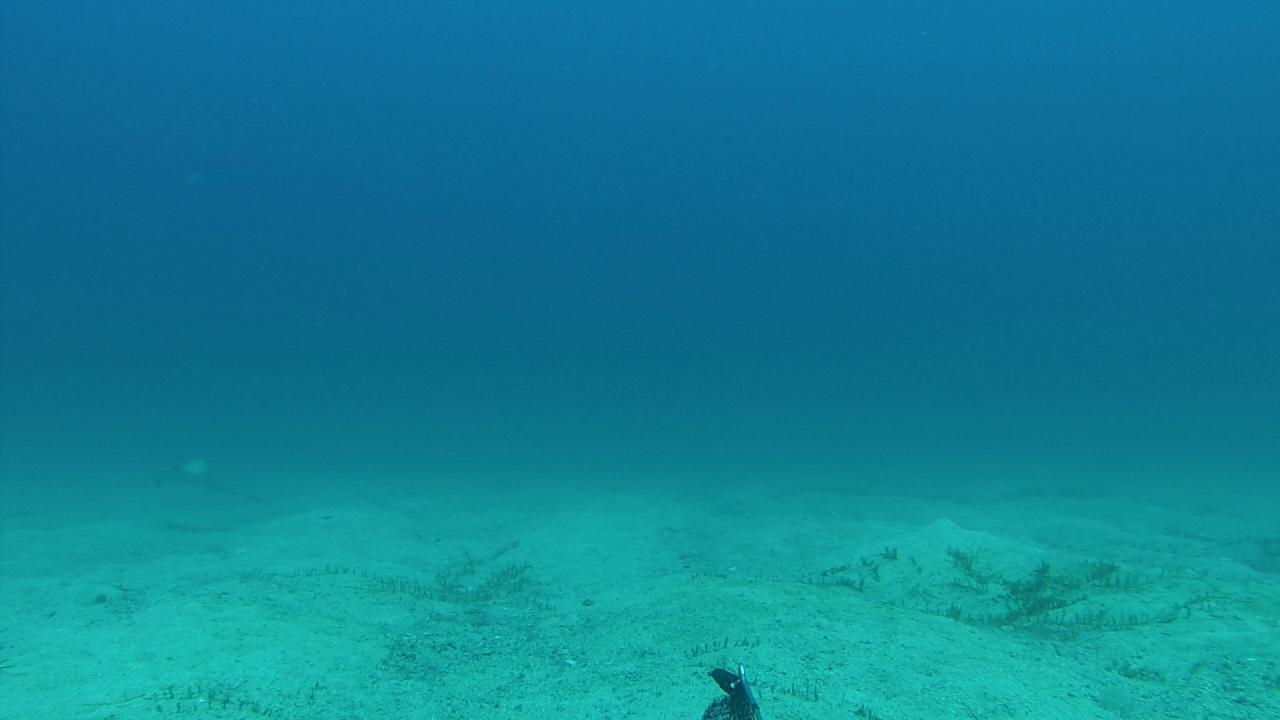dasyatis: (148, 456, 272, 504)
